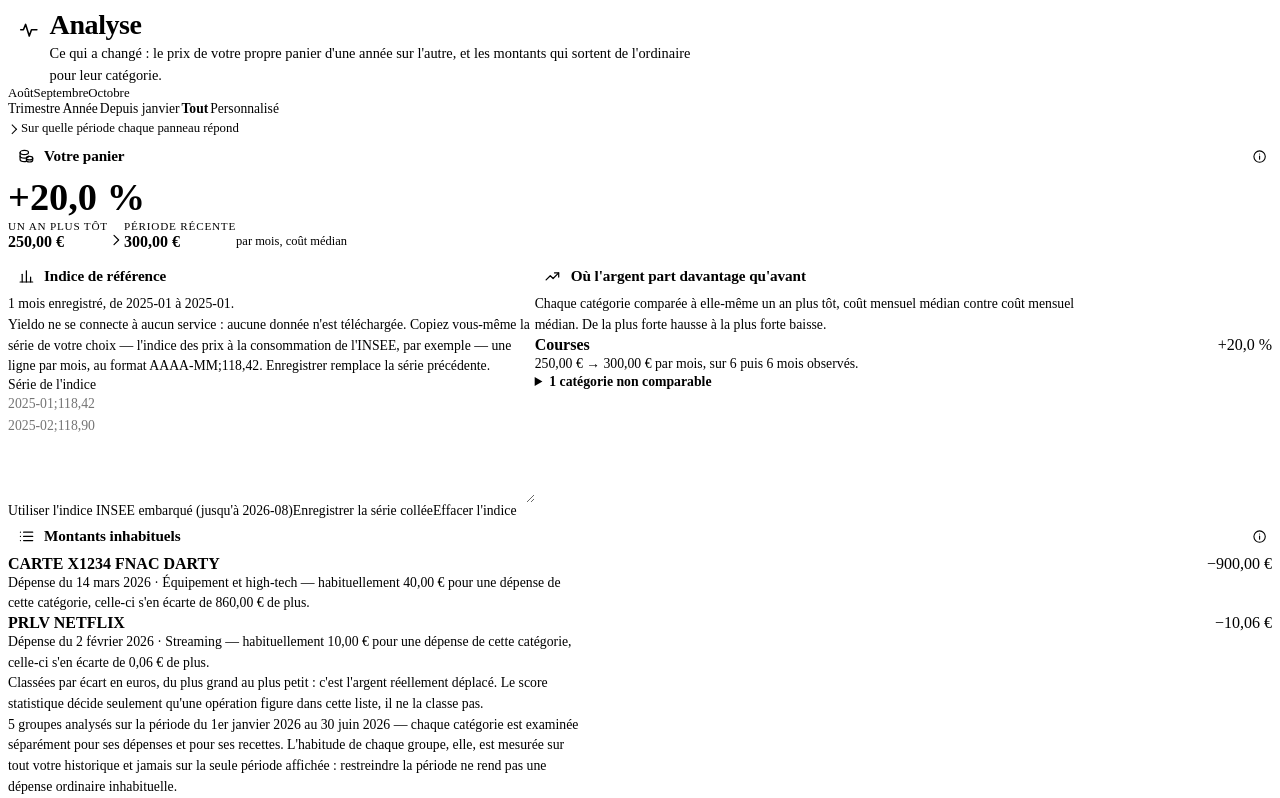
AnalysisPage — inflation › shows the reference index beside the basket when one is configured
Click the button named "Comment ce panier est mesuré".
click(1260, 156)  # box [1248,144,1272,168]
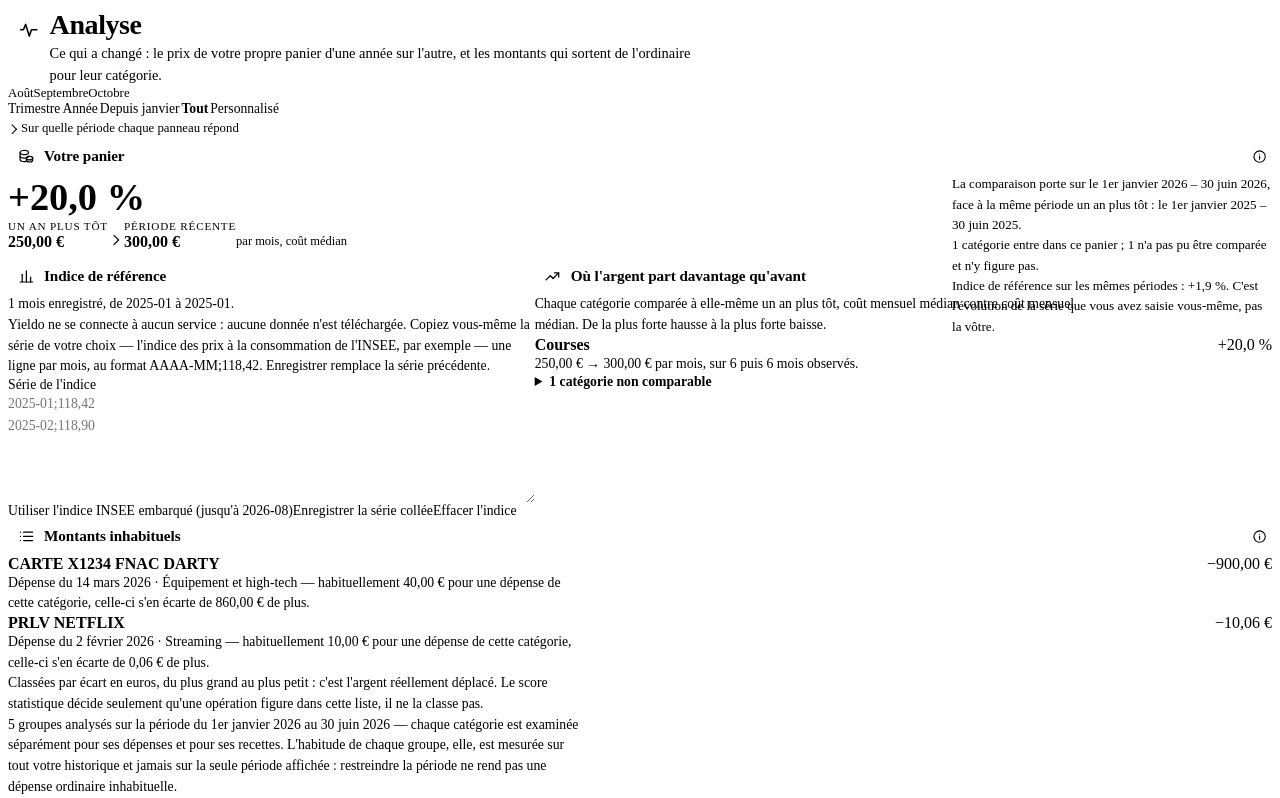
Check: the tooltip shows "+1,9 %", box [952,278,1262,334]
